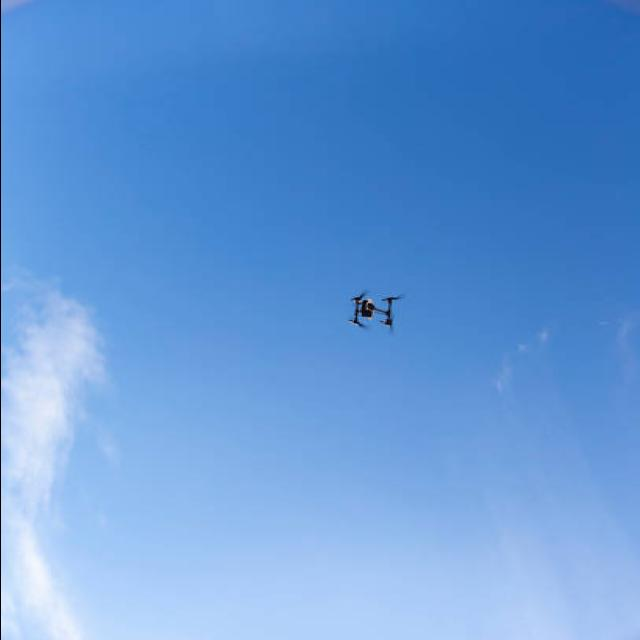drone: (348, 290, 404, 332)
